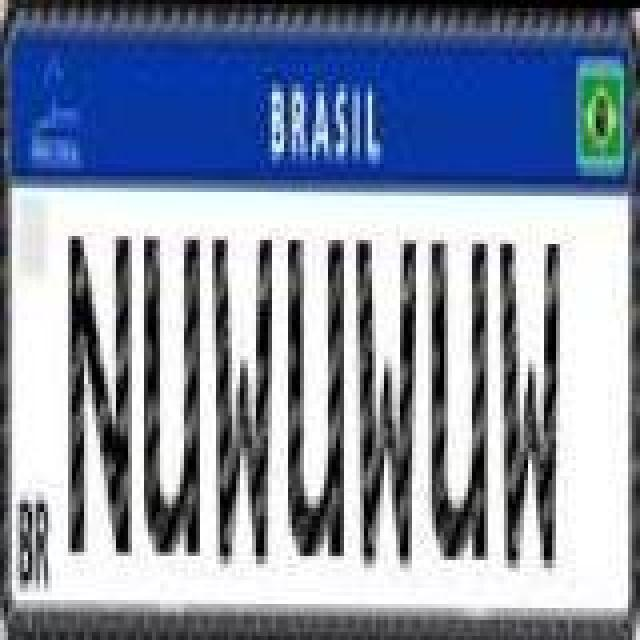N: (66, 226, 134, 562)
U: (142, 232, 202, 556), (286, 234, 346, 558), (426, 236, 486, 560)
W: (208, 234, 272, 570), (352, 236, 416, 572), (496, 238, 560, 574)
